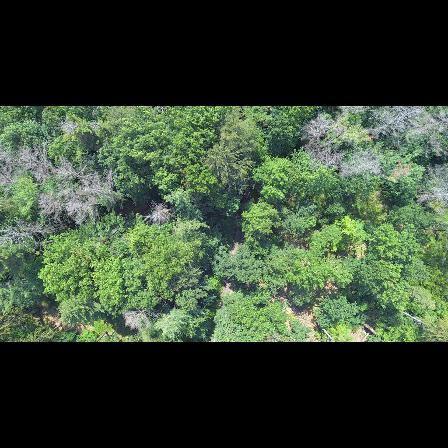Dead: (356, 106, 431, 137), (0, 216, 72, 246), (67, 173, 130, 202), (297, 112, 334, 161), (41, 196, 101, 226), (337, 149, 381, 182), (15, 143, 59, 173), (120, 304, 161, 333), (409, 174, 448, 204), (140, 199, 178, 225), (35, 170, 76, 189)
